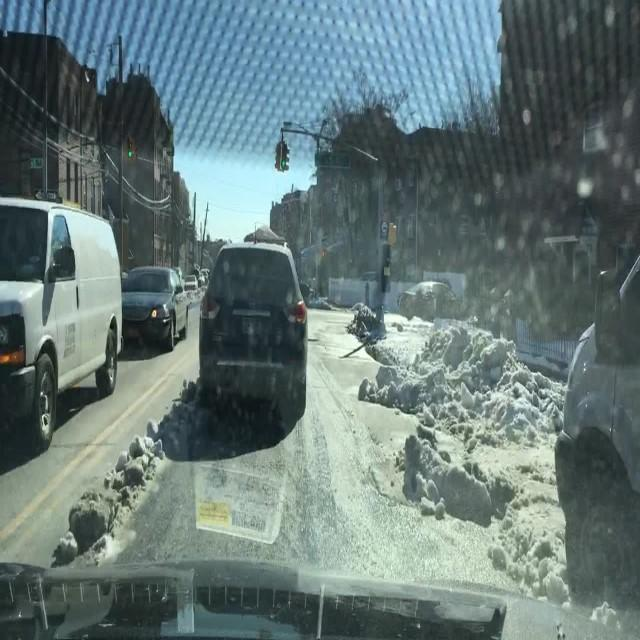normal: (0, 170, 190, 500), (180, 210, 328, 464)
